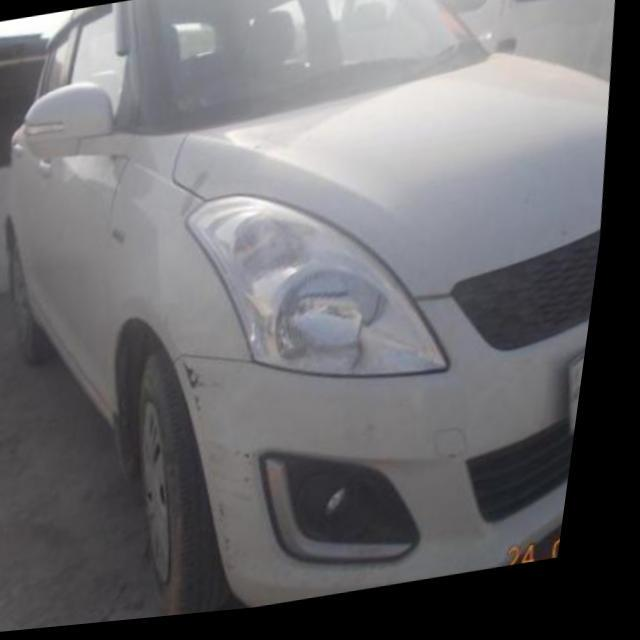crack: (193, 362, 221, 408)
rub: (220, 439, 274, 590)
